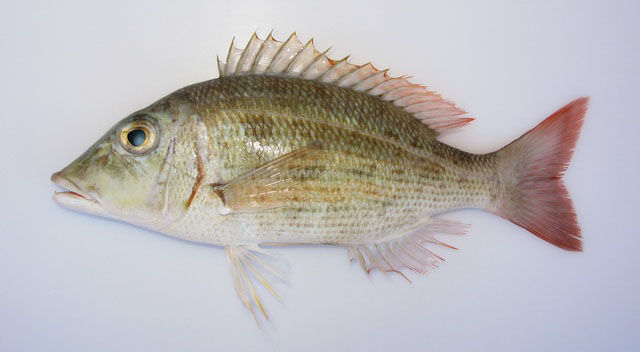fish: (50, 30, 592, 333)
